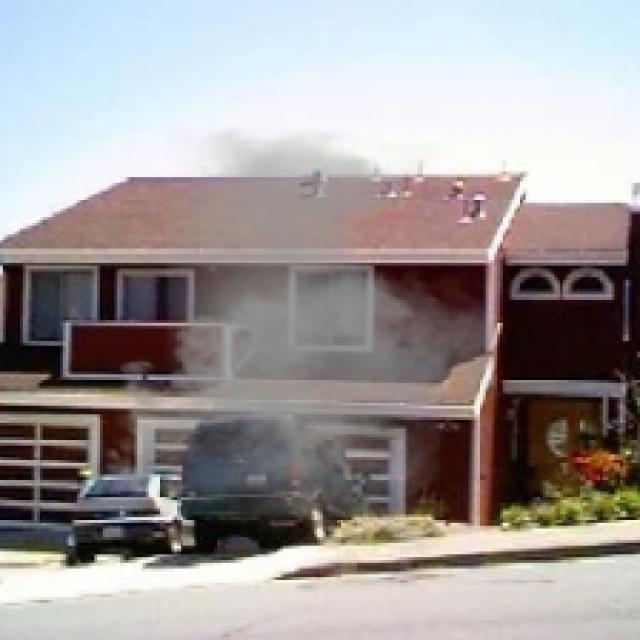Smoke: (91, 126, 518, 552)
